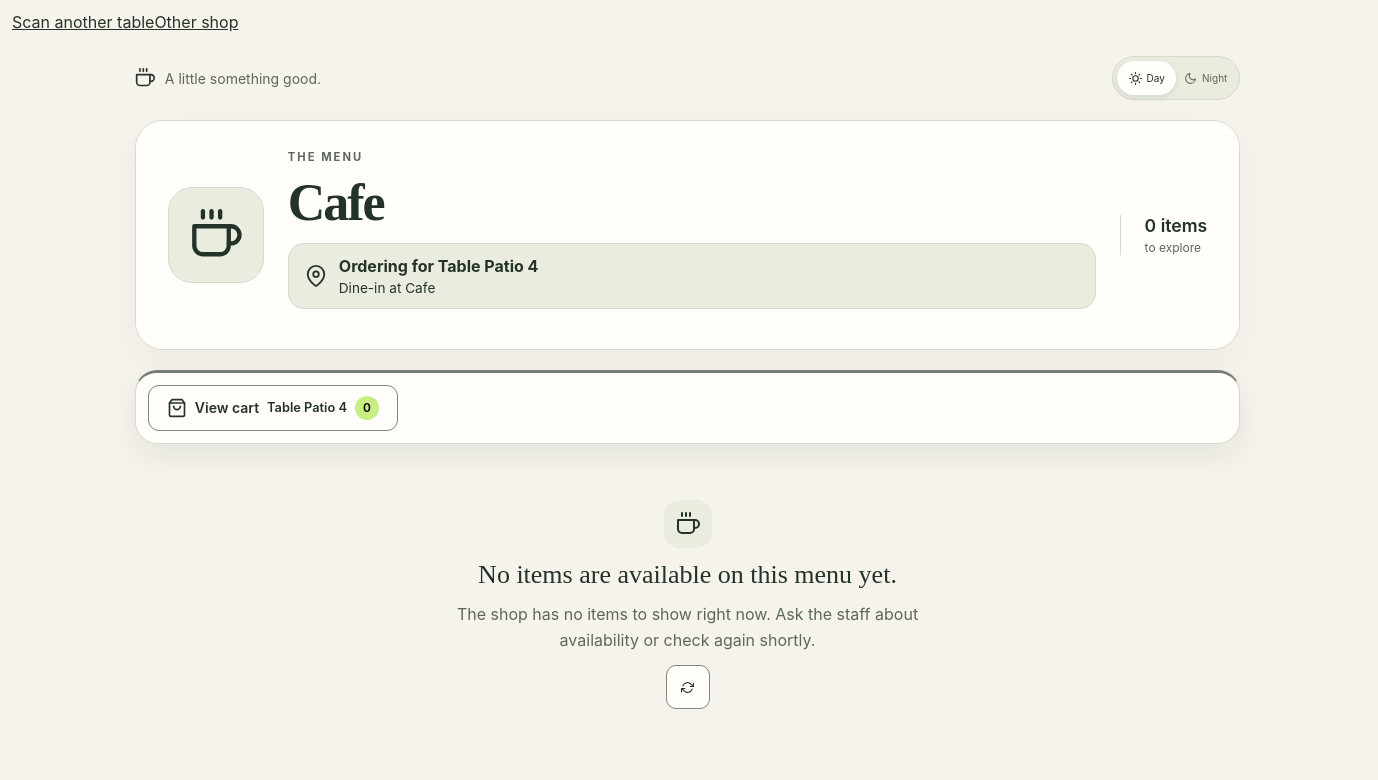
Test: a subsequent scan replaces the context and switching shops does not leak it
The width and height of the screenshot is (1378, 780).
Check: the text "Ordering for Table Patio 4" is shown, box [339,256,538,276]
Click the link "Scan another table". click: click(83, 22)
box: [12,12,154,32]
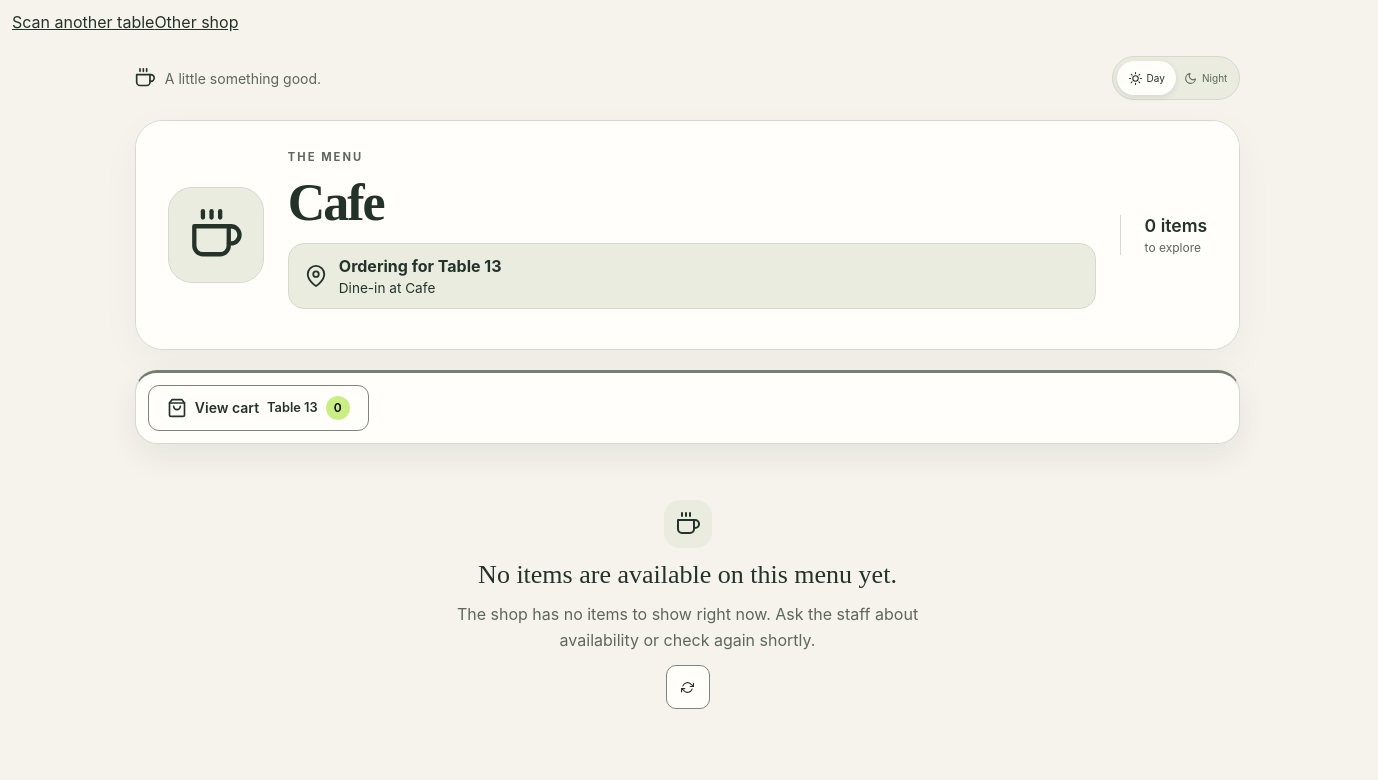
Check: the text "Ordering for Table 13" is shown, box [339,256,502,276]
Click the link "Other shop". click: click(196, 22)
box: [154,12,238,32]
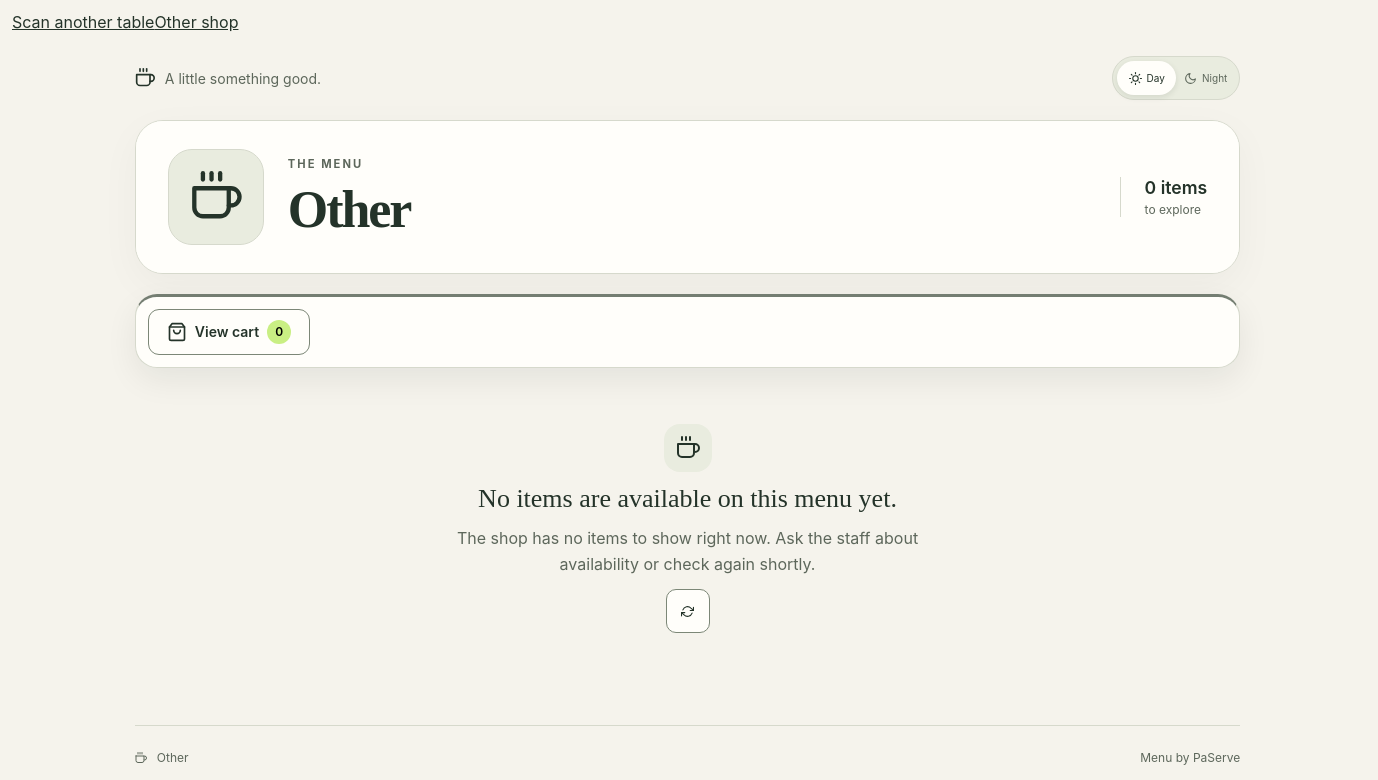
Check: the heading "Other" is shown, box [288,181,410,238]
Check: the text "Ordering for Table" is gone
